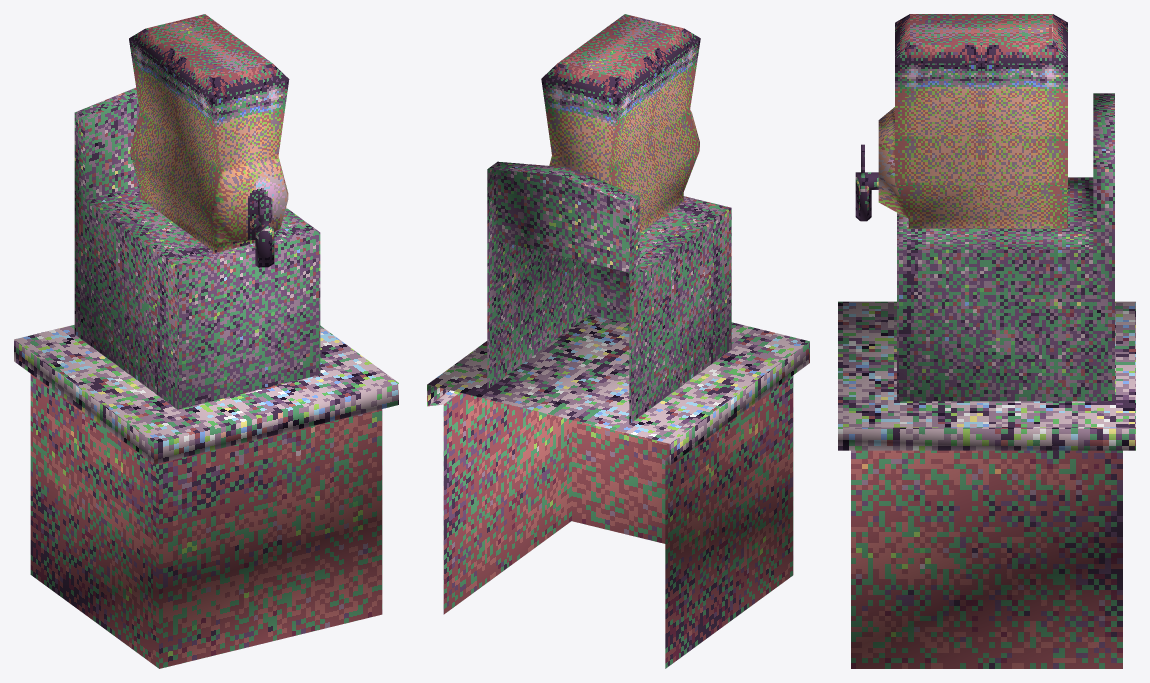
File: blender.glb
3 views of the same model, side by side, from view 1: azimuth 30°, elevation 25°; view 2: azimuth 150°, elevation 25°; view 3: azimuth 270°, elevation 25° (orthographic). The views are drawn at different scales.
Visible parts, largest first — view 1: blender; view 2: blender; view 3: blender.
Part boxes in pixels (x1,y1,x2,y2): blender: (14,14,398,668); blender: (427,14,809,668); blender: (838,14,1135,668).
Bounding box in the file's own units: 2.19 × 4.72 × 2.19.
Materials: 2 (2 with a texture image).
